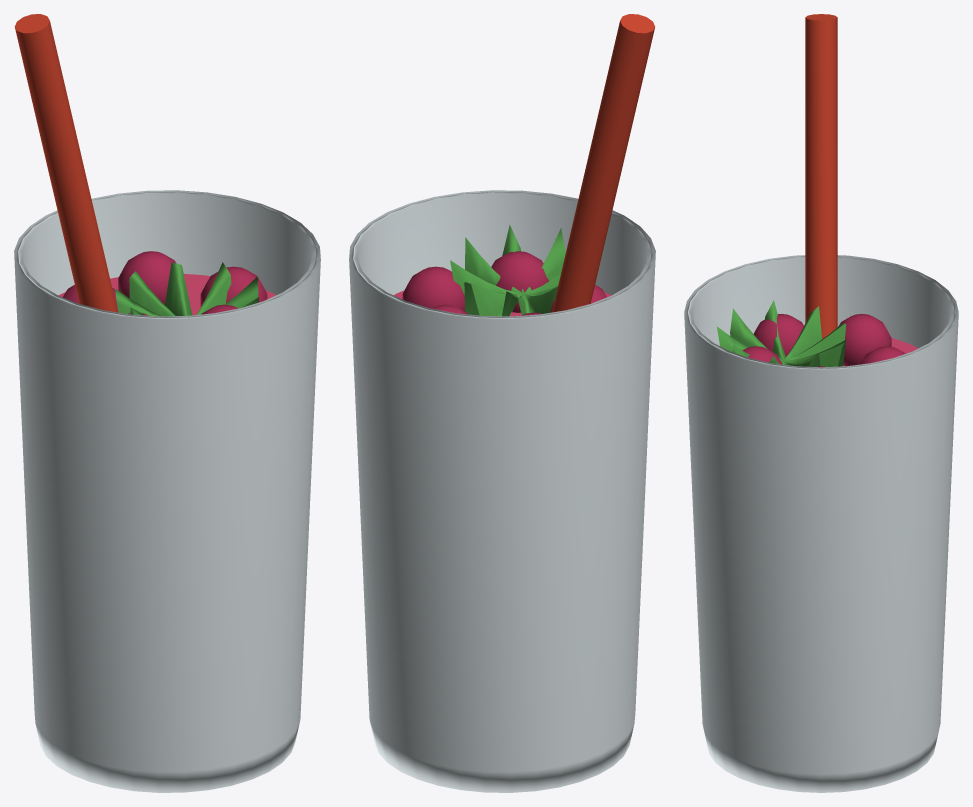
Rendered from berry-lemonade.glb.
3 renders of one model, left to right at view 1: azimuth 30°, elevation 25°; view 2: azimuth 150°, elevation 25°; view 3: azimuth 270°, elevation 25°, orthographic. The views are drawn at different scales.
Visible parts, largest first — view 1: berry-lemonade; view 2: berry-lemonade; view 3: berry-lemonade.
Boxes of the visible parts, x1,y1,x2,y2 form: berry-lemonade: [14, 14, 320, 792]; berry-lemonade: [349, 14, 655, 792]; berry-lemonade: [684, 14, 958, 792].
Size of the model in its own units: 0.0766 by 0.1943 by 0.072.
